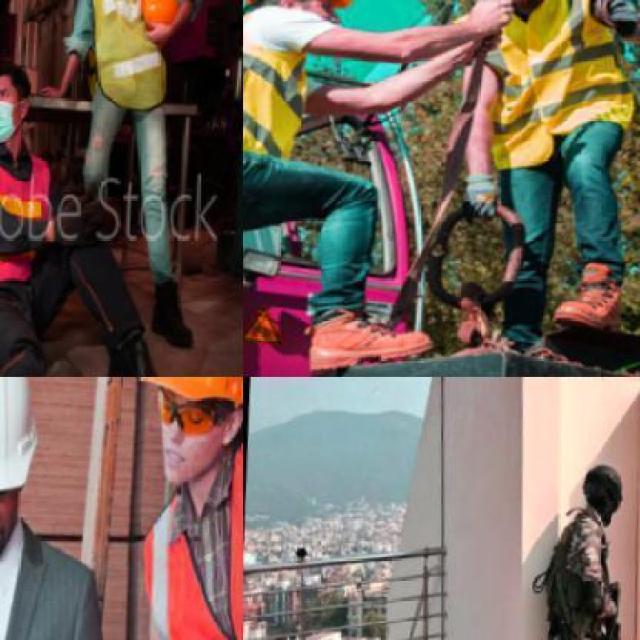Vest: (472, 0, 638, 185), (112, 444, 242, 638), (243, 0, 318, 178), (76, 0, 182, 122), (532, 526, 612, 639), (0, 151, 51, 298)
